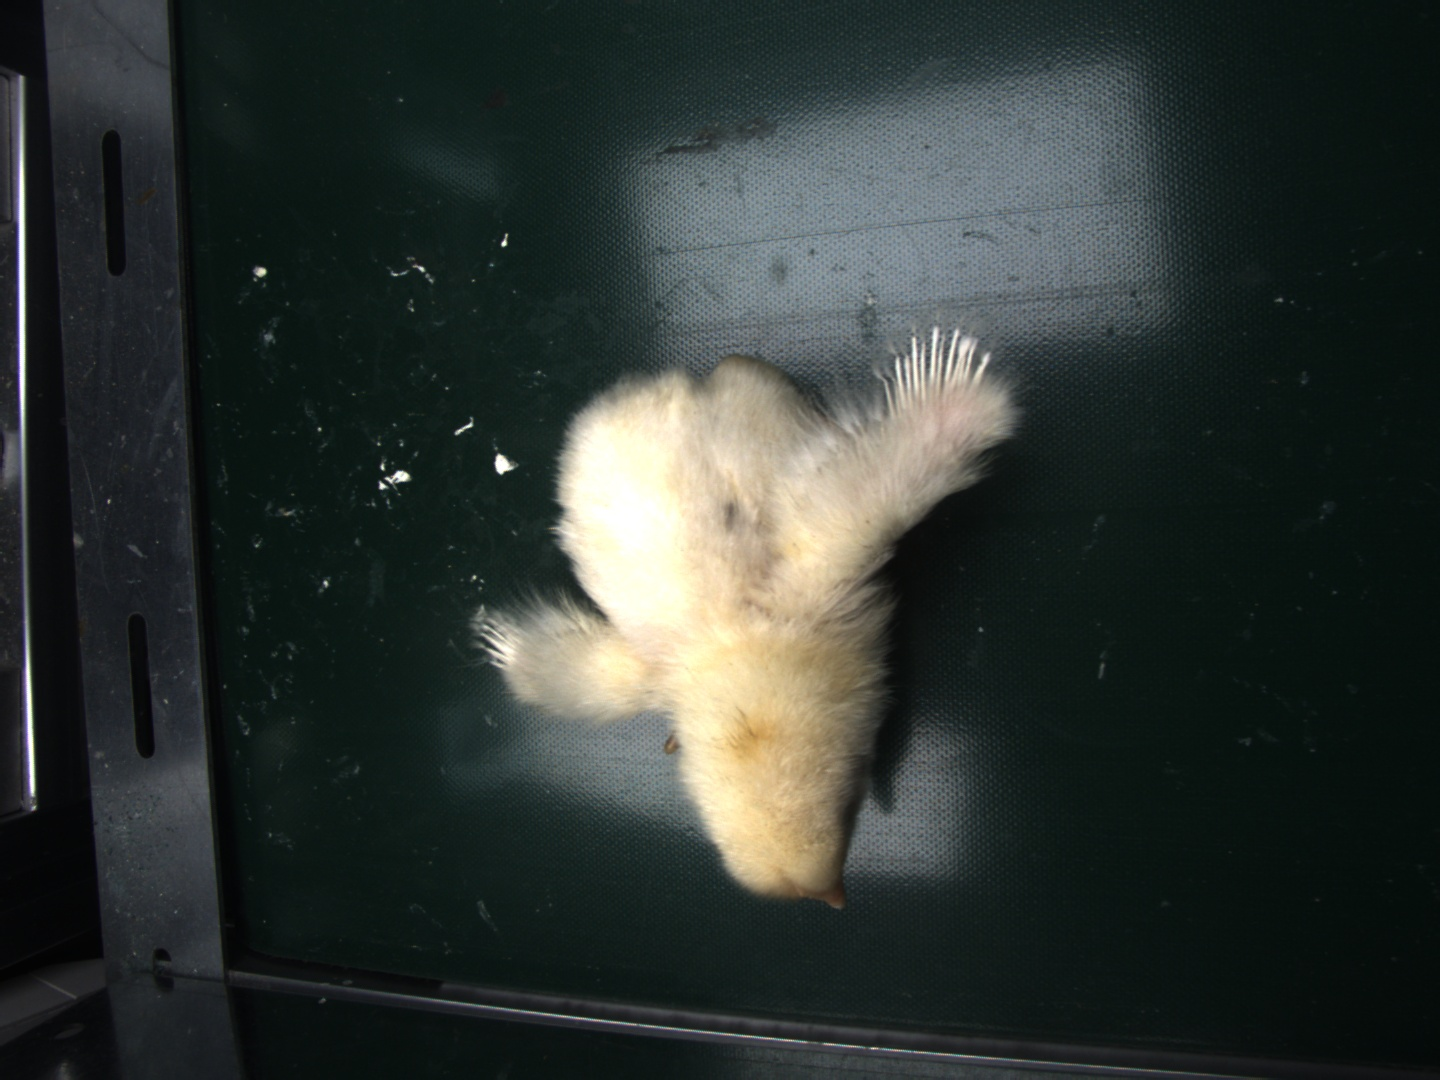male: (884, 324, 986, 412)
